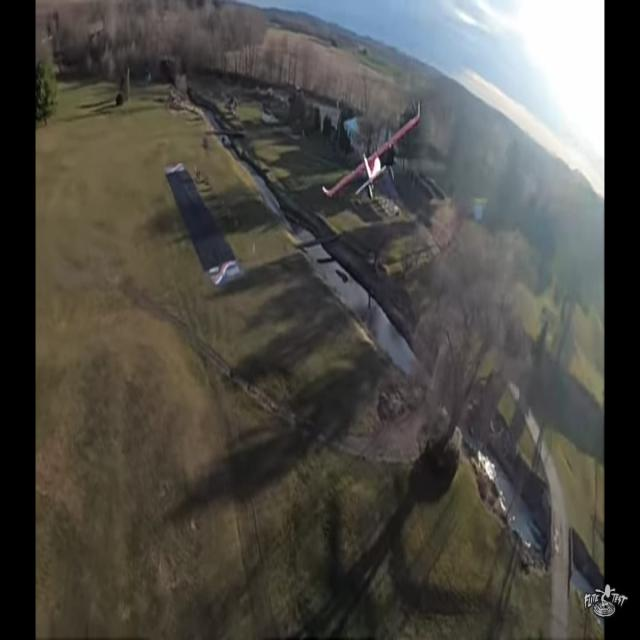iha: (354, 131, 388, 168)
